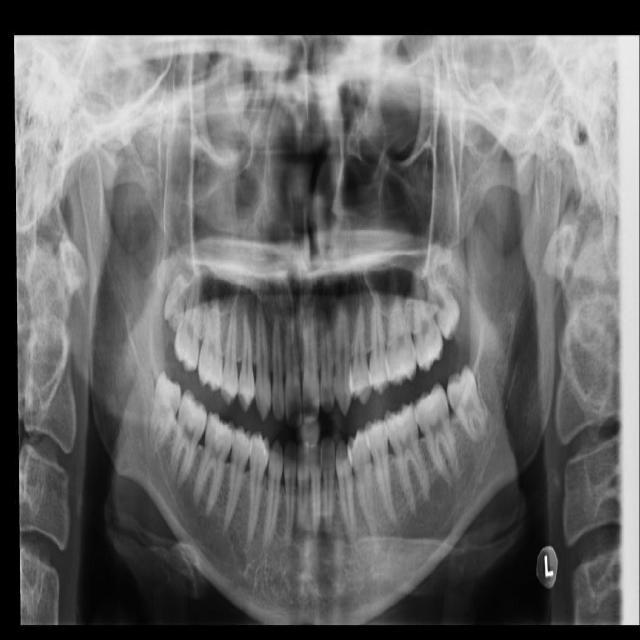3M ESPE Implant: (161, 274, 188, 332)
73: (596, 587, 604, 601)
BioHorizons Implant: (409, 265, 445, 373)
BioLife Implant: (420, 253, 468, 341)
Biomet 3i Implant: (439, 362, 493, 445)
Blue Sky Bio Implant: (409, 381, 462, 485)
Caries: (173, 268, 203, 372)
Implant: (166, 389, 212, 489)
Keystone Dental Implant: (146, 369, 185, 454)
